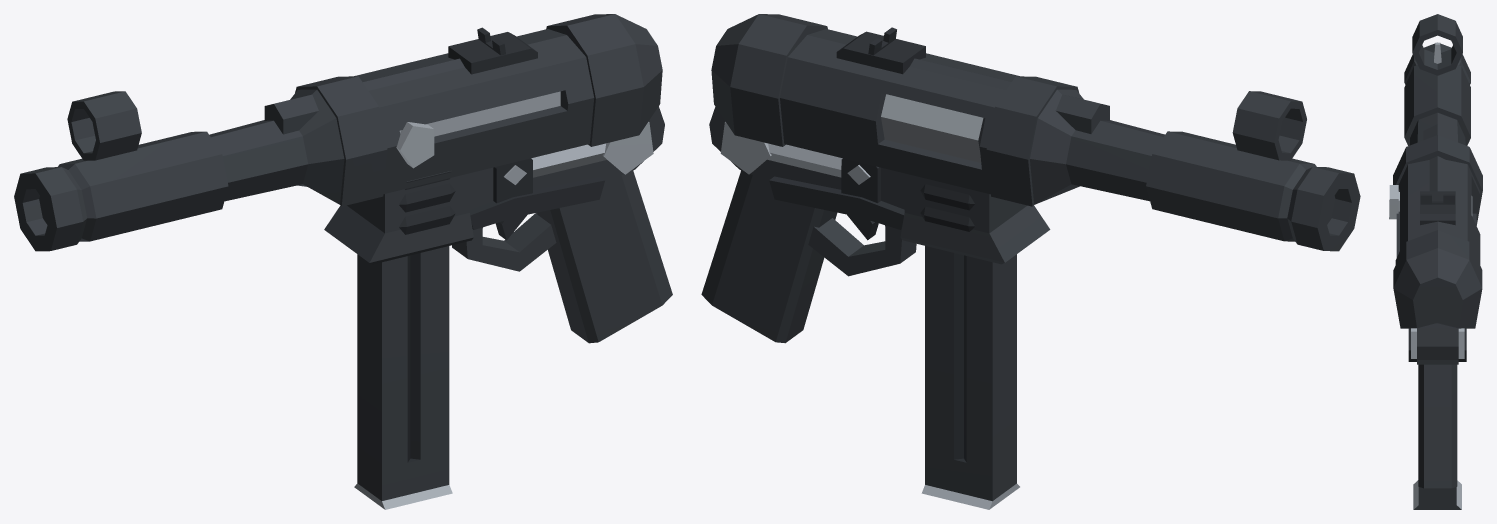
File: gun_2.fbx
3 views of the same model, side by side, from view 1: azimuth 30°, elevation 25°; view 2: azimuth 150°, elevation 25°; view 3: azimuth 270°, elevation 25° (orthographic). The views are drawn at different scales.
Visible parts, largest first — view 1: 2; view 2: 2; view 3: 2.
Boxes of the visible parts, x1,y1,x2,y2 form: 2: (14, 14, 672, 509); 2: (701, 14, 1360, 509); 2: (1389, 14, 1482, 509).
Bounding box in the file's own units: 82.91 × 58.84 × 13.8.
